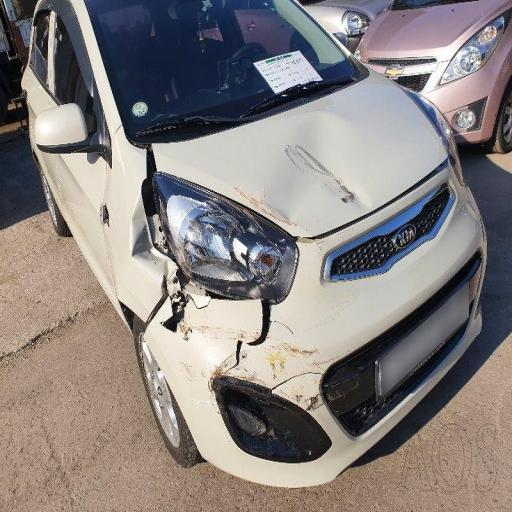broken: (130, 117, 288, 418), (77, 173, 130, 270)
scratch: (275, 100, 387, 241)
